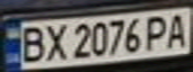0: (90, 18, 112, 57)
2: (69, 19, 93, 61)
6: (124, 15, 148, 53)
7: (106, 16, 127, 56)
A: (163, 10, 193, 49)
B: (15, 22, 48, 64)
P: (142, 12, 172, 52)
X: (39, 21, 69, 62)
